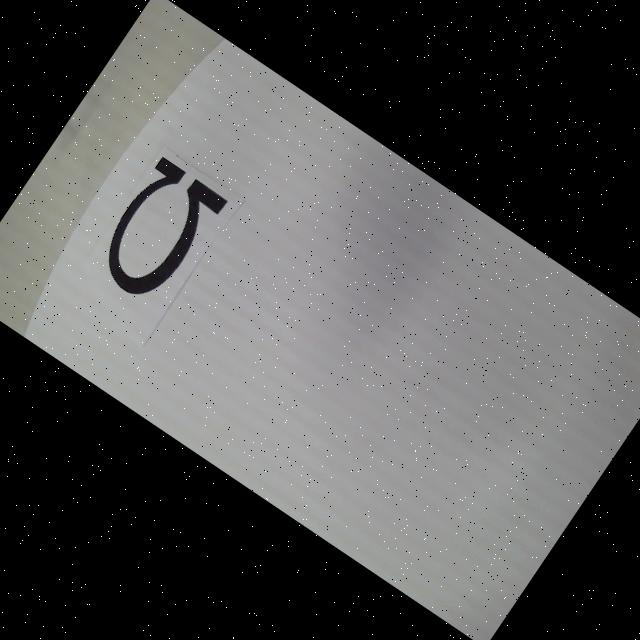OMEGA: (86, 155, 228, 312)
